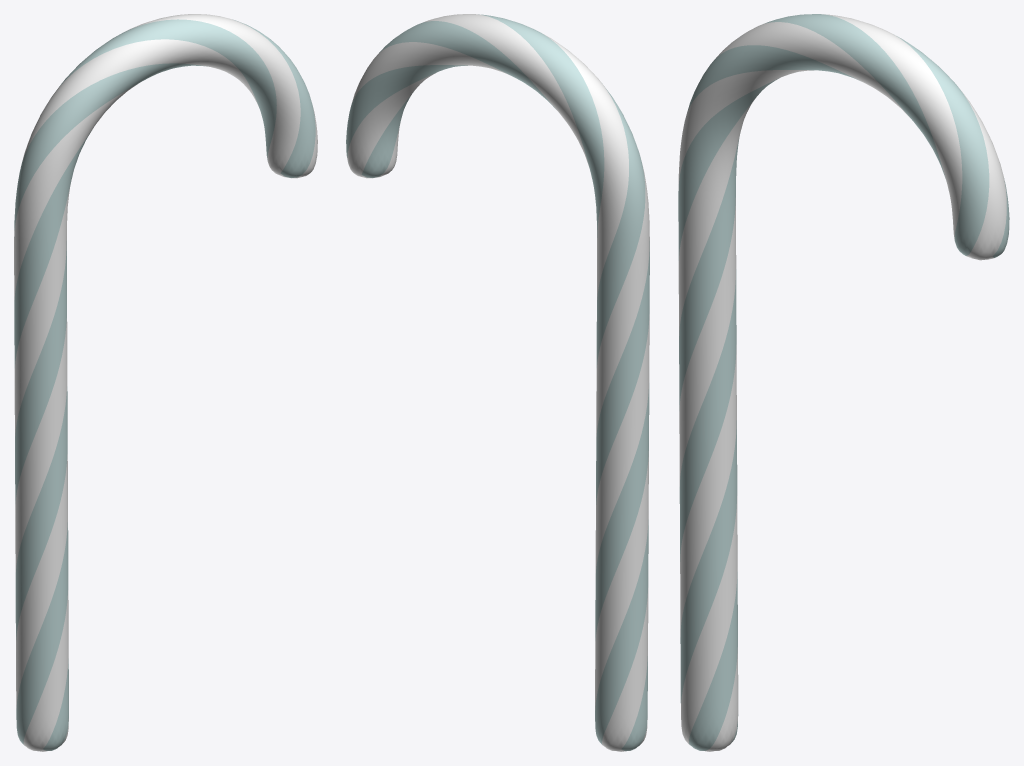
Rendered from 2ndbluecandycane.gltf.
The picture shows the model from 3 angles, left to right: view 1: azimuth 30°, elevation 25°; view 2: azimuth 150°, elevation 25°; view 3: azimuth 330°, elevation 25°; orthographic projection. The views are drawn at different scales.
Visible parts, largest first — view 1: Circle.001; view 2: Circle.001; view 3: Circle.001.
Boxes of the visible parts, bbox=[...] form: Circle.001: bbox=[14, 14, 317, 751]; Circle.001: bbox=[346, 14, 649, 751]; Circle.001: bbox=[678, 14, 1009, 751].
Bounding box in the file's own units: 2.34 × 5.25 × 0.3596.
